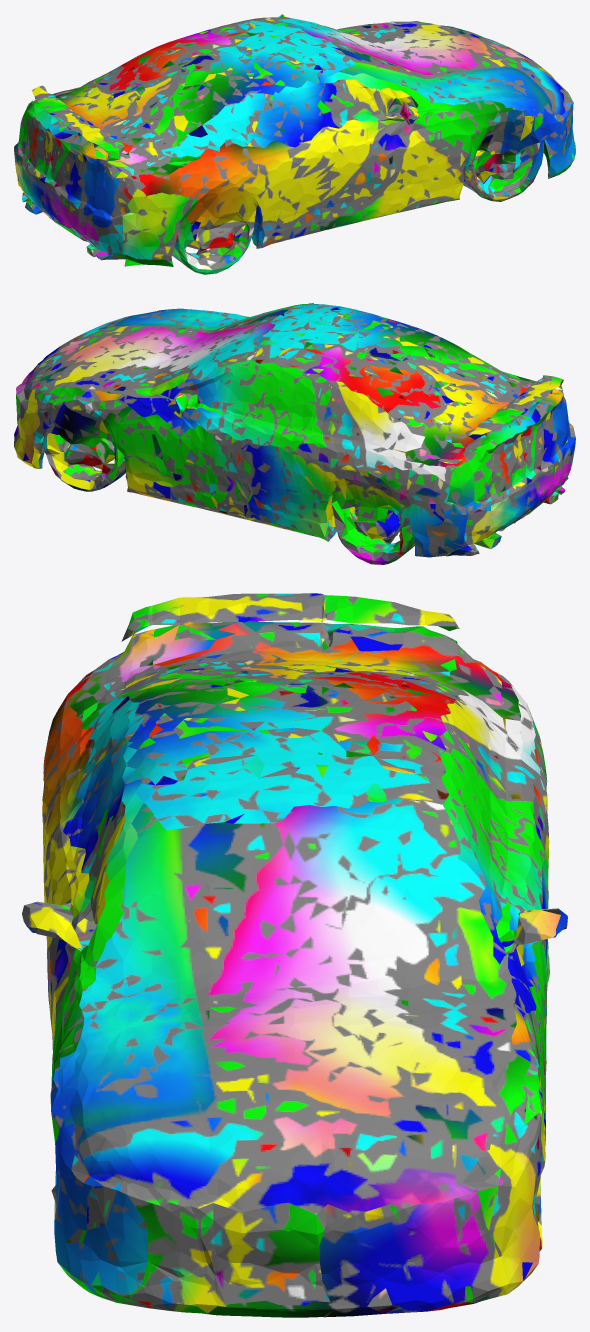
3 views of the same model, one above another, from view 1: azimuth 30°, elevation 25°; view 2: azimuth 150°, elevation 25°; view 3: azimuth 270°, elevation 25° (orthographic). The views are drawn at different scales.
Bounding box in the file's own units: 0.8957 × 0.275 × 0.4254.
